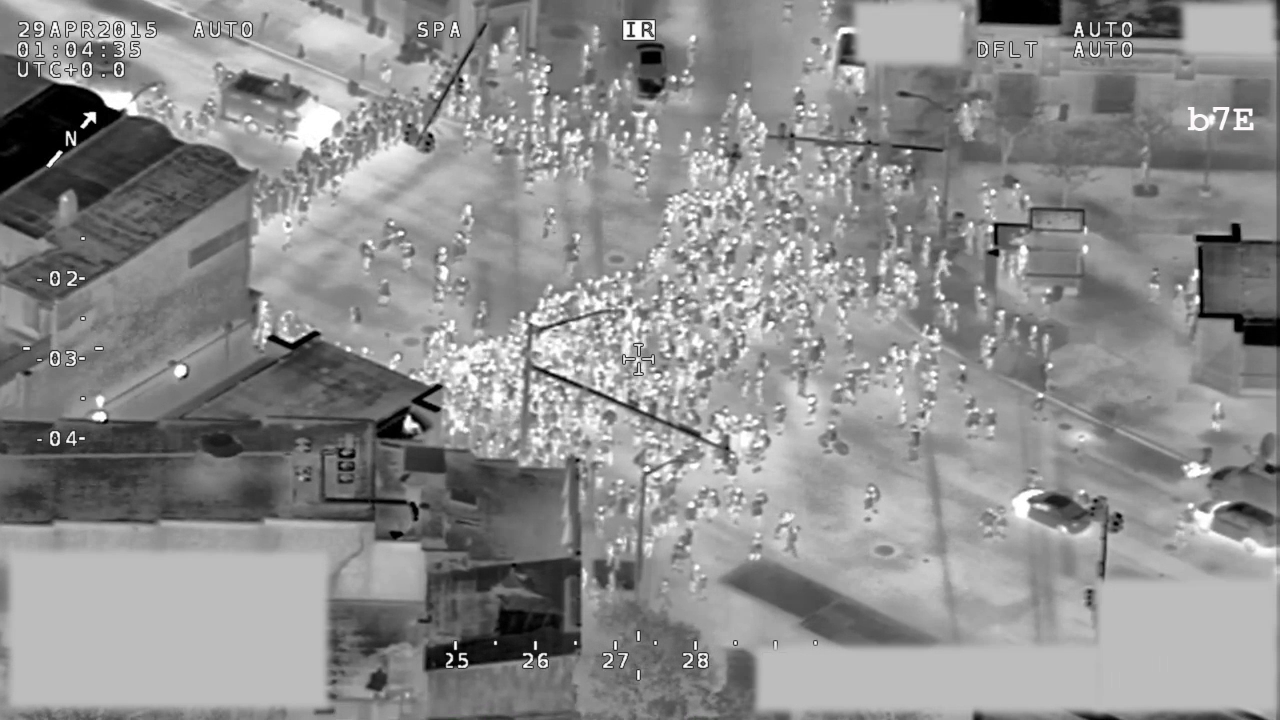vehicle: (218, 66, 346, 153), (1195, 493, 1280, 558), (1007, 480, 1093, 539), (632, 41, 668, 108)
